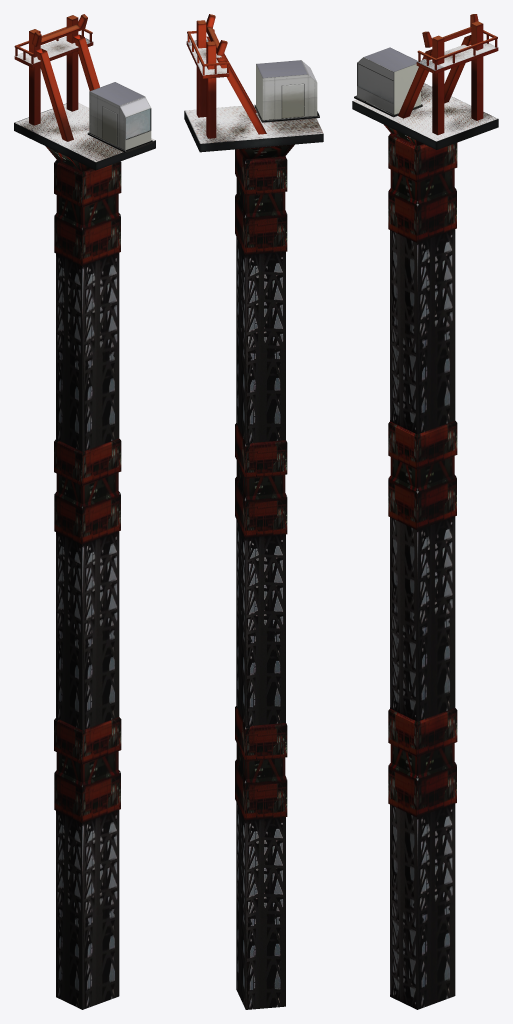
Rendered from kure-ndodai2f2.obj.
3 renders of one model, left to right at view 1: azimuth 90°, elevation 25°; view 2: azimuth 150°, elevation 25°; view 3: azimuth 270°, elevation 25°, orthographic. The views are drawn at different scales.
Bounding box in the file's own units: 12.66 × 91.7 × 12.28.
1 material, 1 textured.
